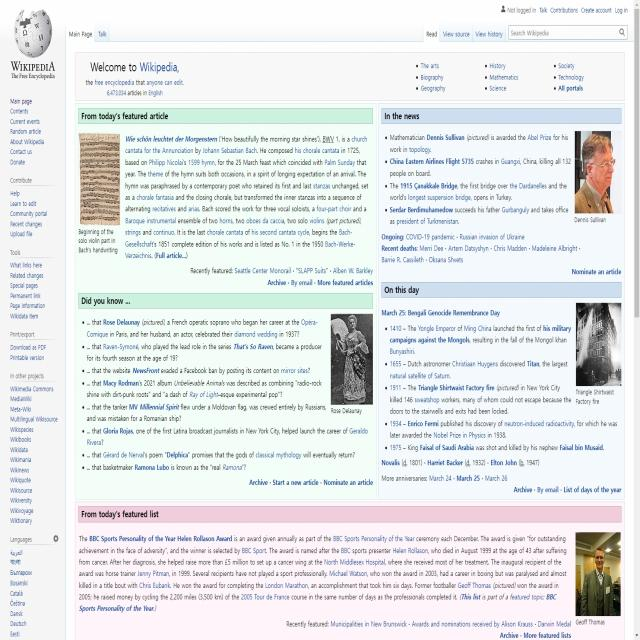menu-bar: (536, 2, 628, 18)
menu-panel: (421, 25, 506, 43), (66, 24, 112, 44)
search: (507, 21, 628, 41)
